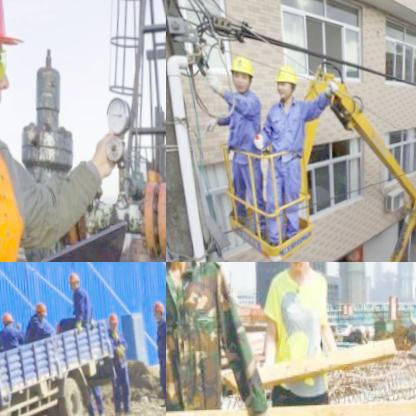helmet: (230, 53, 256, 94), (272, 65, 299, 102), (151, 299, 164, 325), (31, 300, 47, 321), (107, 310, 119, 332), (68, 271, 81, 291), (0, 312, 12, 328)
